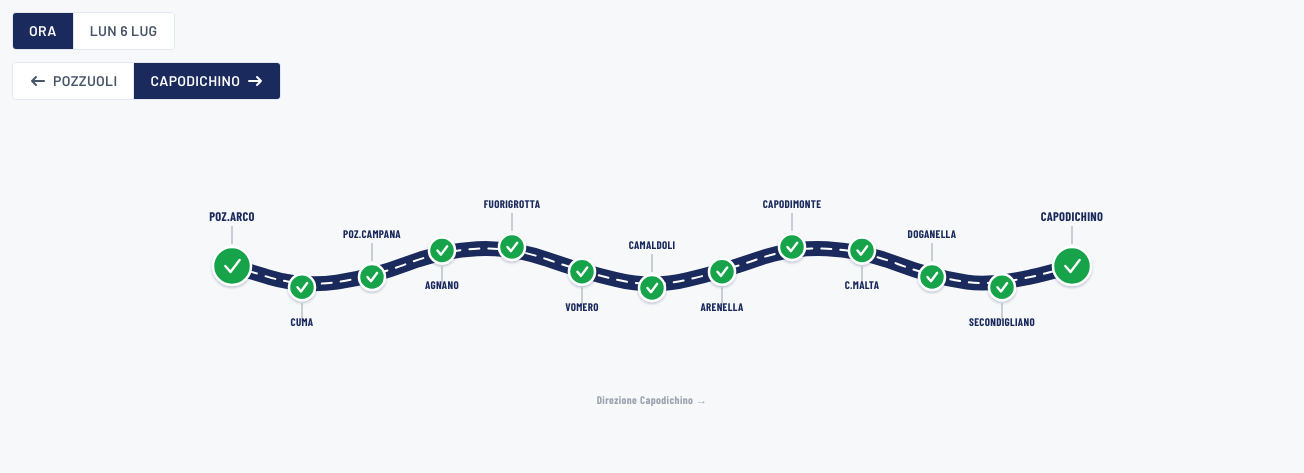
MapViewSwitcher › tornando su "Ora" dopo aver selezionato una data, ripristina lo stato attuale e nasconde il banner
The image size is (1304, 473).
What coordinates should you click on to do the following:
click the button "lun 6 lug"
I would click on:
 (123, 31)
Its box is [73, 13, 174, 49].
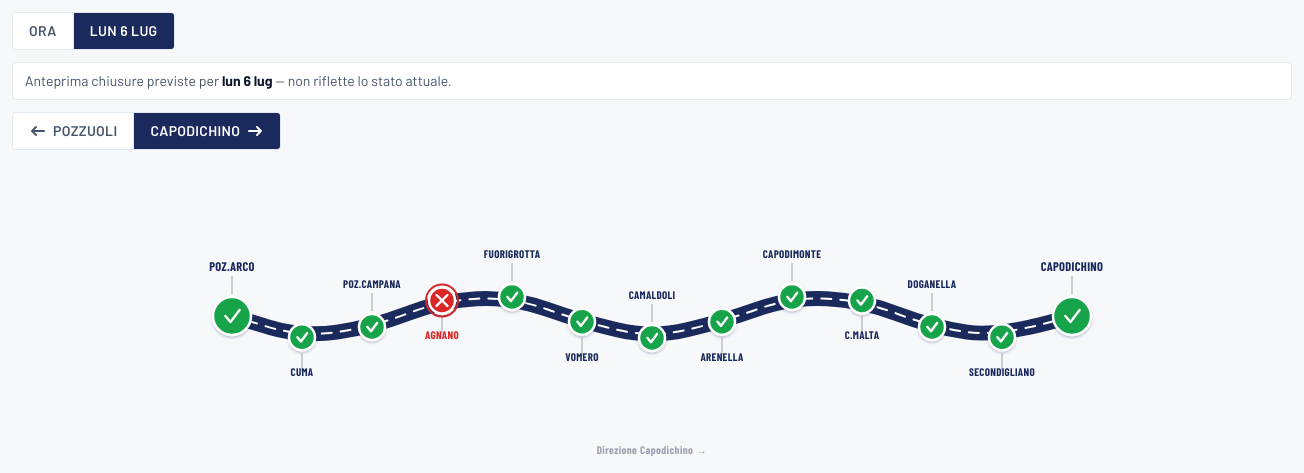
What coordinates should you click on to do the following:
click the button "Ora"
I would click on:
 (43, 31)
Its box is [13, 13, 73, 49].
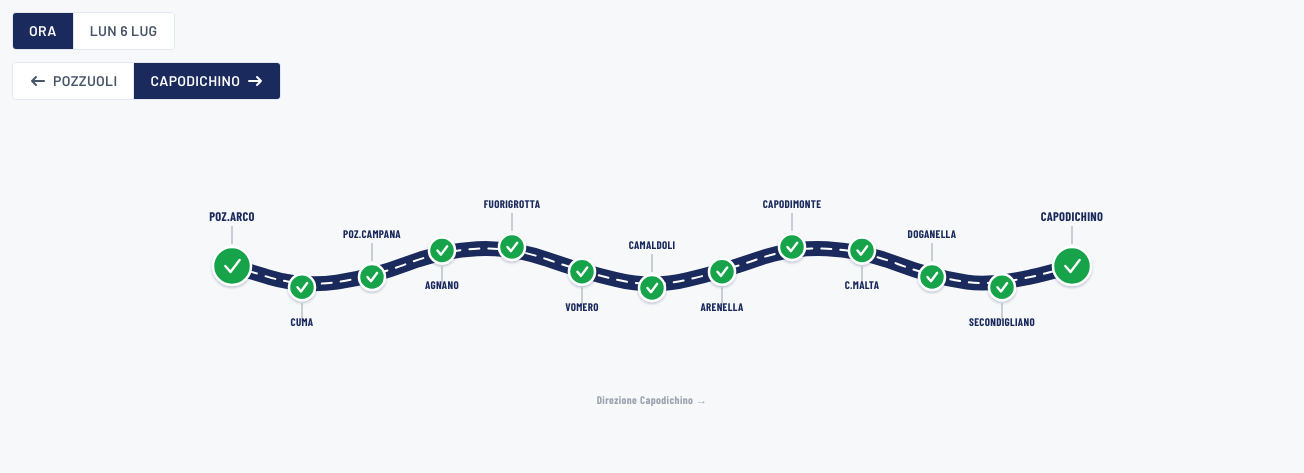
Result: the message "Anteprima chiusure previste per lun 6 lug — non riflette lo stato attuale." is gone
